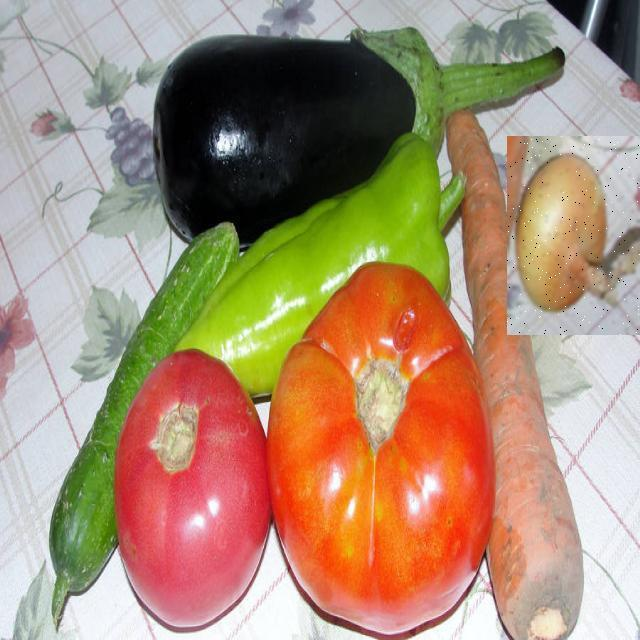Onion: (507, 136, 640, 335)
